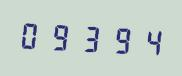four: (134, 22, 162, 59)
nine: (47, 17, 75, 55), (105, 20, 133, 58)
three: (76, 19, 104, 56)
zero: (18, 16, 46, 53)
